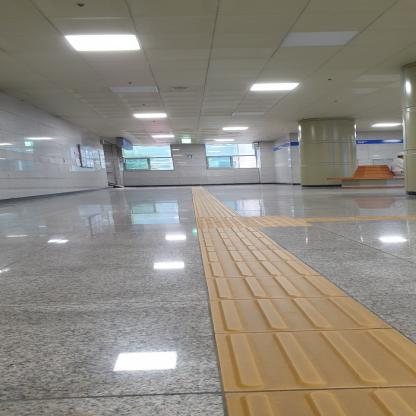go: (214, 328, 416, 392), (208, 296, 394, 333), (206, 275, 352, 300), (202, 260, 323, 278), (200, 249, 302, 263)
